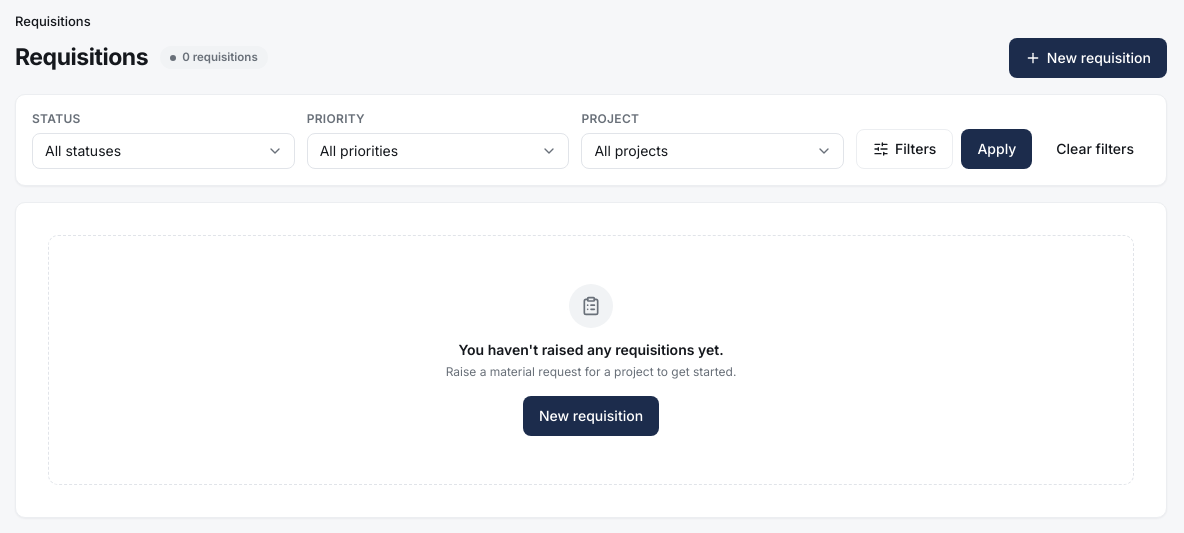
Test: RequisitionListScreen (spec §4/§6) › shows the filtered empty state after applying a filter
Step 1. Select "Approved" in the dropdown with test id "req-f-status" → (163, 150), box [32,132,295,168]
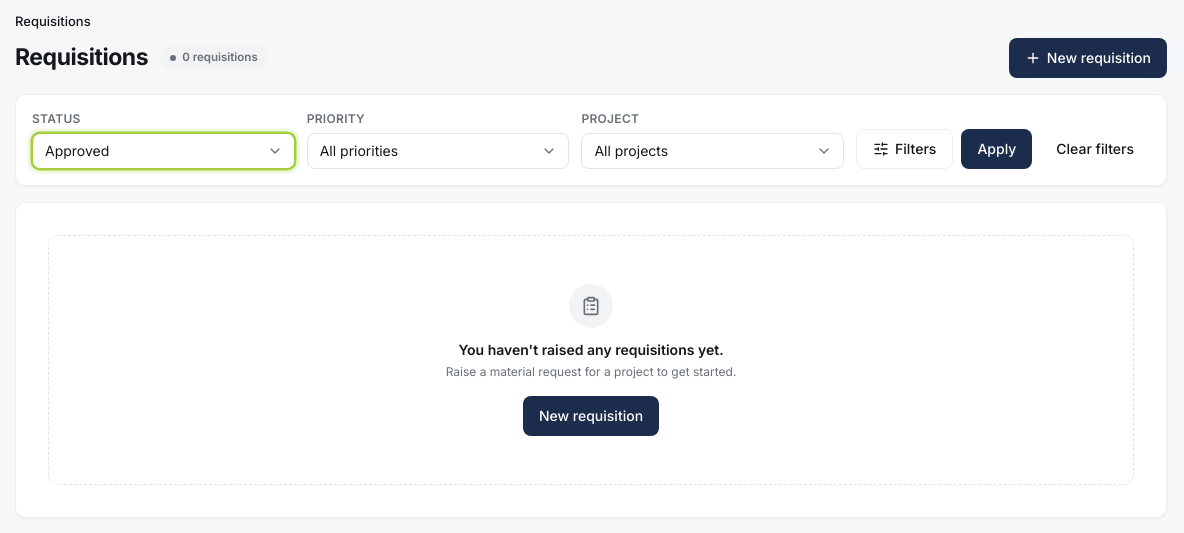
Step 2. Click the button with test id "req-f-apply" → (997, 148), box [961,128,1032,168]
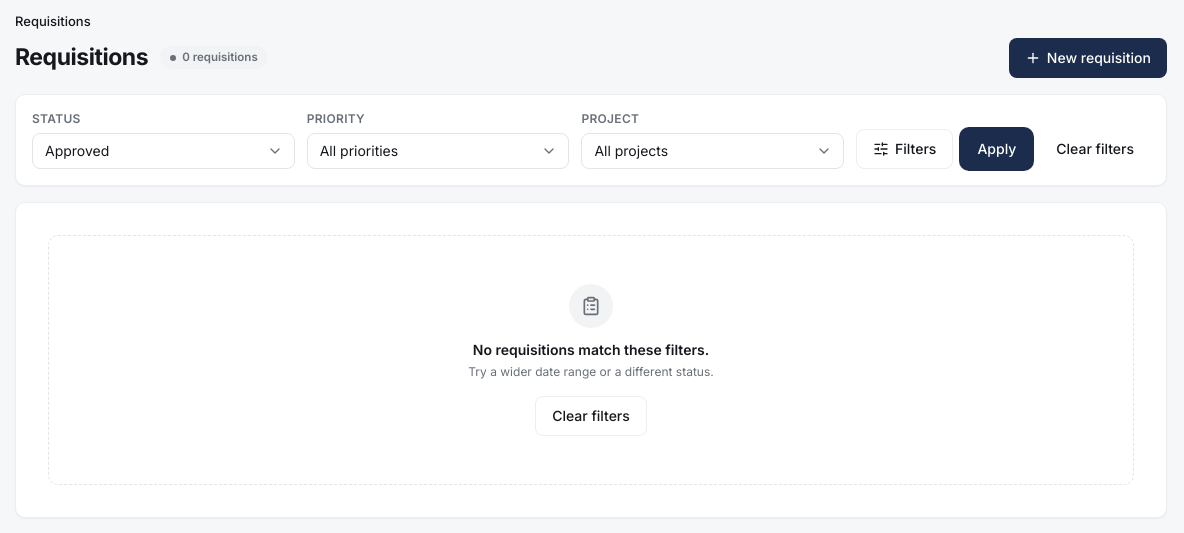
Result: the element with test id "req-empty-filtered" is shown at [16,202,1166,516]
